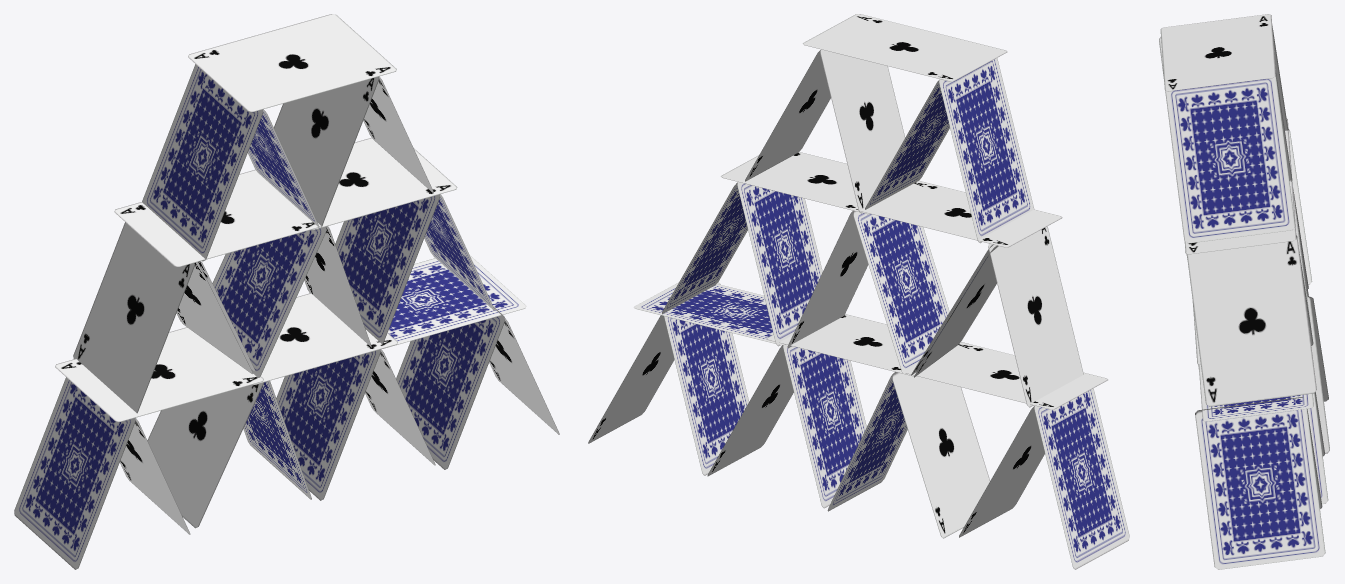
The model's file is CardHouseEntity.fbx.
3 views of the same model, side by side, from view 1: azimuth 30°, elevation 25°; view 2: azimuth 150°, elevation 25°; view 3: azimuth 270°, elevation 25° (orthographic). The views are drawn at different scales.
Parts seen in each view (by area): view 1: Ace_1, Ace_15, Ace_5, Ace, Ace_23, Ace_14, Ace_11, Ace_18, Ace_9, Ace_3, Ace_16, Ace_6 (+12 smaller); view 2: Ace_15, Ace_1, Ace_5, Ace_14, Ace_11, Ace_9, Ace_18, Ace_3, Ace_23, Ace, Ace_6, Ace_16 (+12 smaller); view 3: Ace_4, Ace_8, Ace_22, Ace, Ace_21, Ace_10, Ace_17, Ace_20, King_7, Ace_14, Ace_23, Ace_1 (+2 smaller).
Part boxes in pixels (x1,y1,x2,y2): Ace_1: (142, 64, 262, 261); Ace_15: (14, 377, 135, 569); Ace_5: (73, 222, 194, 413); Ace: (188, 14, 396, 111); Ace_23: (396, 307, 504, 469); Ace_14: (147, 382, 263, 527); Ace_11: (212, 226, 326, 377); Ace_18: (276, 349, 380, 500); Ace_9: (335, 194, 439, 344); Ace_3: (274, 76, 379, 227); Ace_16: (55, 327, 263, 421); Ace_6: (114, 170, 323, 266); Ace_15: (1034, 388, 1129, 569); Ace_1: (939, 58, 1034, 242); Ace_5: (988, 226, 1083, 407); Ace_14: (892, 372, 989, 538); Ace_11: (853, 211, 949, 374); Ace_9: (737, 182, 822, 345); Ace_18: (783, 344, 866, 507); Ace_3: (820, 49, 905, 213); Ace_23: (664, 282, 748, 475); Ace: (803, 14, 1007, 81); Ace_6: (858, 181, 1062, 247); Ace_16: (906, 342, 1107, 409); Ace_4: (1165, 76, 1295, 243); Ace_8: (1187, 238, 1316, 406); Ace_22: (1195, 409, 1325, 569); Ace: (1160, 14, 1275, 91); Ace_21: (1198, 364, 1313, 421); Ace_10: (1184, 181, 1296, 254); Ace_17: (1198, 364, 1328, 504); Ace_20: (1307, 296, 1329, 453); King_7: (1288, 129, 1312, 284); Ace_14: (1309, 297, 1328, 401); Ace_23: (1195, 397, 1321, 508); Ace_1: (1272, 27, 1287, 130).
Size of the model in its own units: 3226 by 2868 by 1071.
